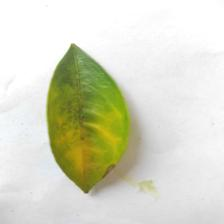greening: (45, 95, 127, 168)
